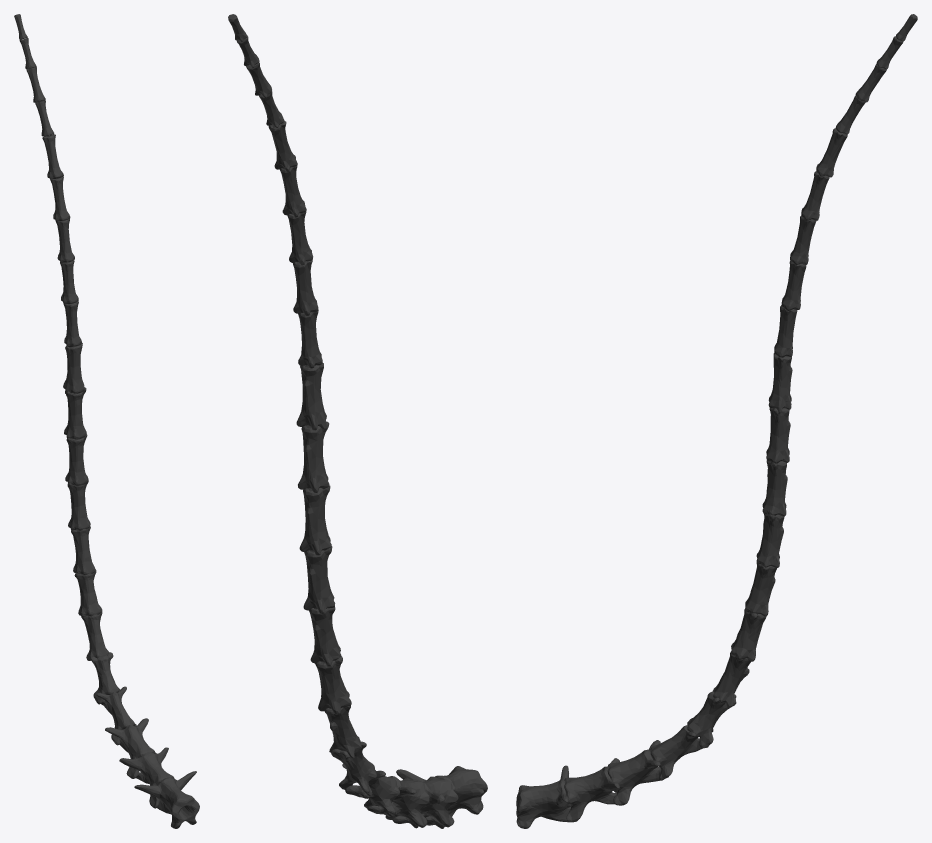
Rendered from b_caudal_vertebra.glb.
3 views of the same model, side by side, from view 1: azimuth 30°, elevation 25°; view 2: azimuth 150°, elevation 25°; view 3: azimuth 270°, elevation 25° (orthographic). The views are drawn at different scales.
Visible parts, largest first — view 1: b_caudal_vertebra; view 2: b_caudal_vertebra; view 3: b_caudal_vertebra.
Boxes of the visible parts, bbox=[...] form: b_caudal_vertebra: bbox=[14, 14, 199, 828]; b_caudal_vertebra: bbox=[228, 14, 487, 828]; b_caudal_vertebra: bbox=[516, 14, 917, 828].
Size of the model in its own units: 0.0101 by 0.1071 by 0.0482.
Materials: 1 (1 with a texture image).
